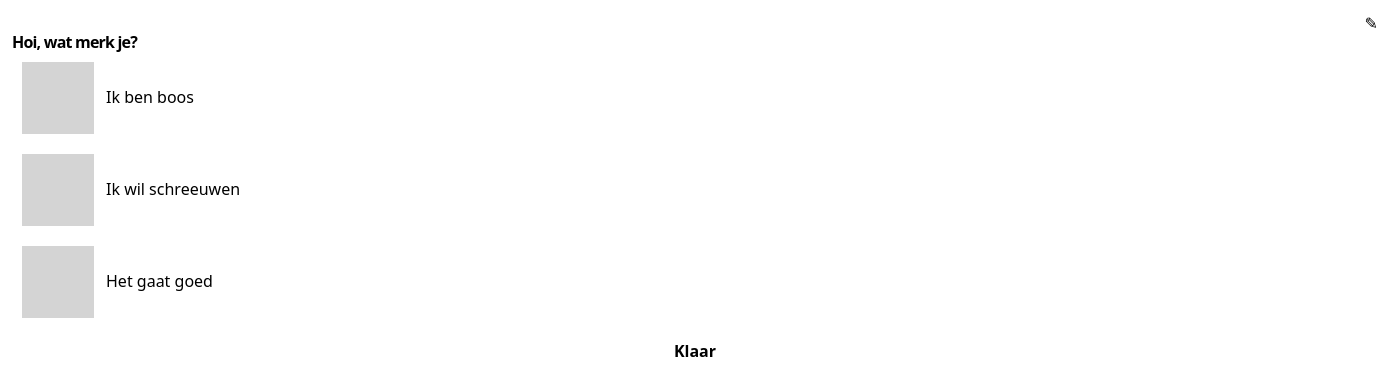
App › shows the signals, "Het gaat goed" and "Klaar"; tapping signals gives the colour
Expected: the button "Het gaat goed" is shown, [12,236,1378,328]
What coordinates should you click on to do the following:
click the button "Ik ben boos"
I would click on:
 (58, 98)
Its box is [12,52,1378,144].
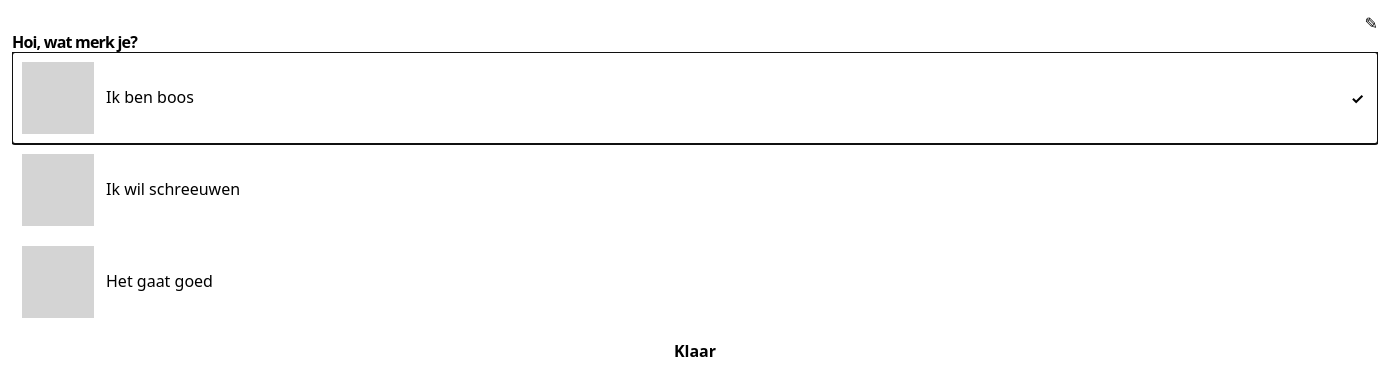
Result: the button "Ik ben boos ✓" is pressed
What coordinates should you click on to do the following:
click the button "Ik ben boos ✓"
I would click on:
 (58, 98)
Its box is [12,52,1378,144].
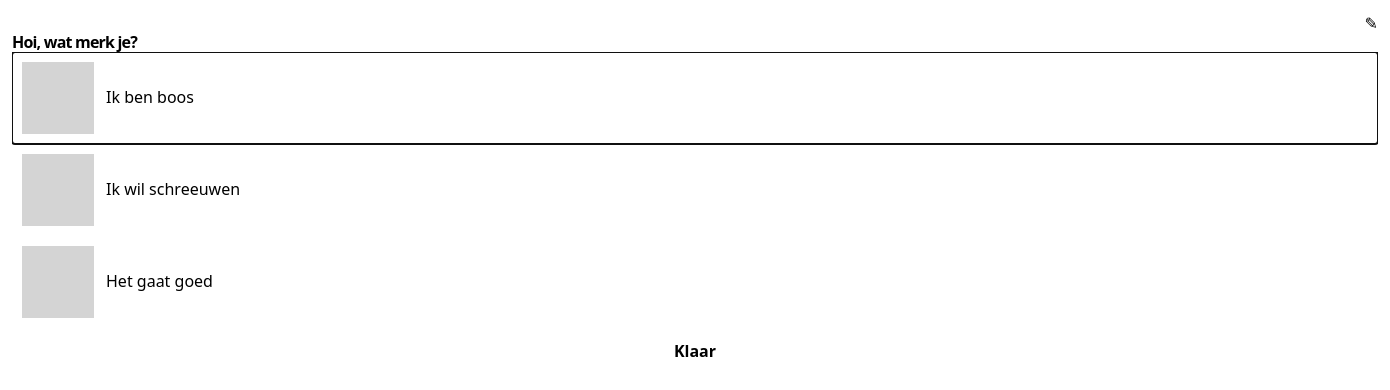
Result: the button "Ik ben boos" is not pressed
What coordinates should you click on to do the following:
click the button "Ik ben boos"
I would click on:
 (58, 98)
Its box is [12,52,1378,144].
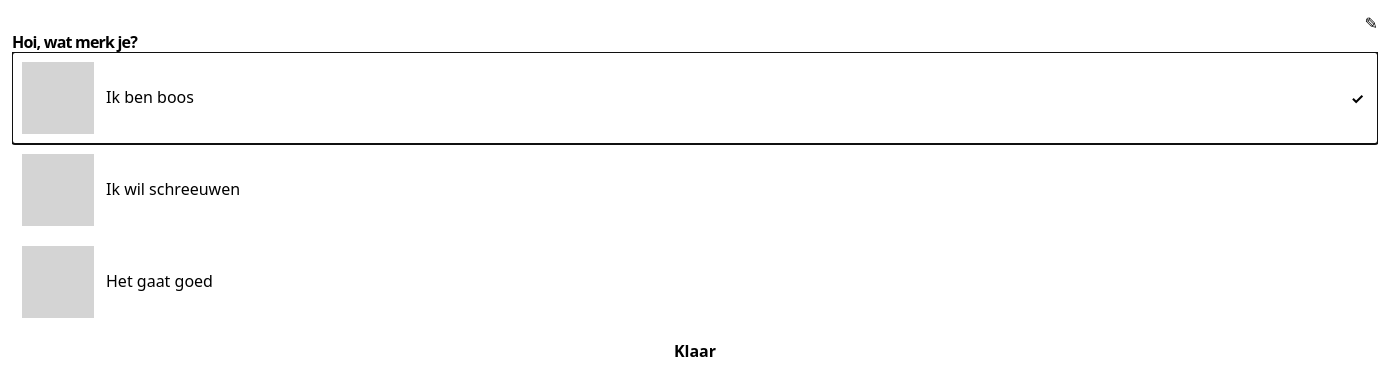
What coordinates should you click on to do the following:
click the button "Klaar"
I would click on:
 (695, 351)
Its box is [12,328,1378,374].
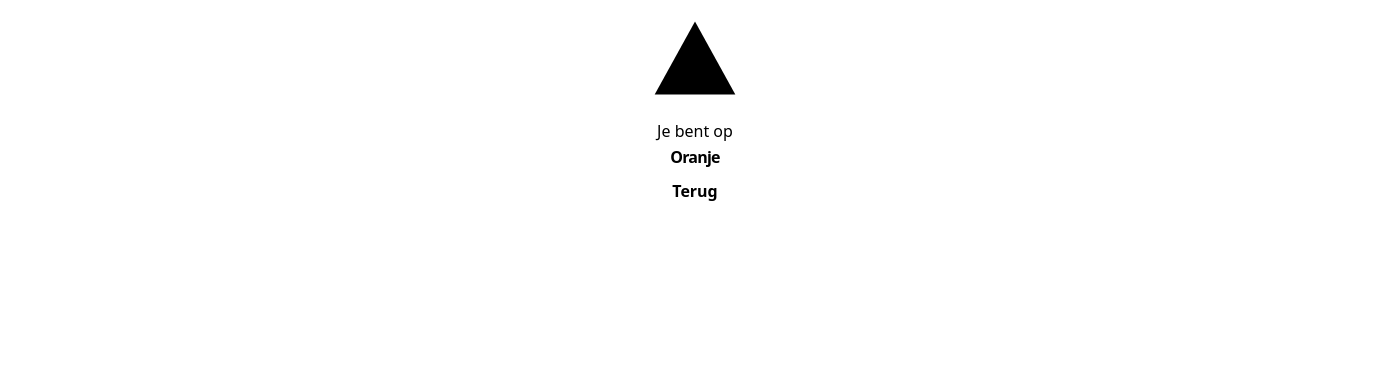
Result: the heading "Je bent op Oranje" is shown at [657,120,733,168]
What coordinates should you click on to do the following:
click the button "Terug"
I would click on:
 (695, 191)
Its box is [12,168,1378,214].
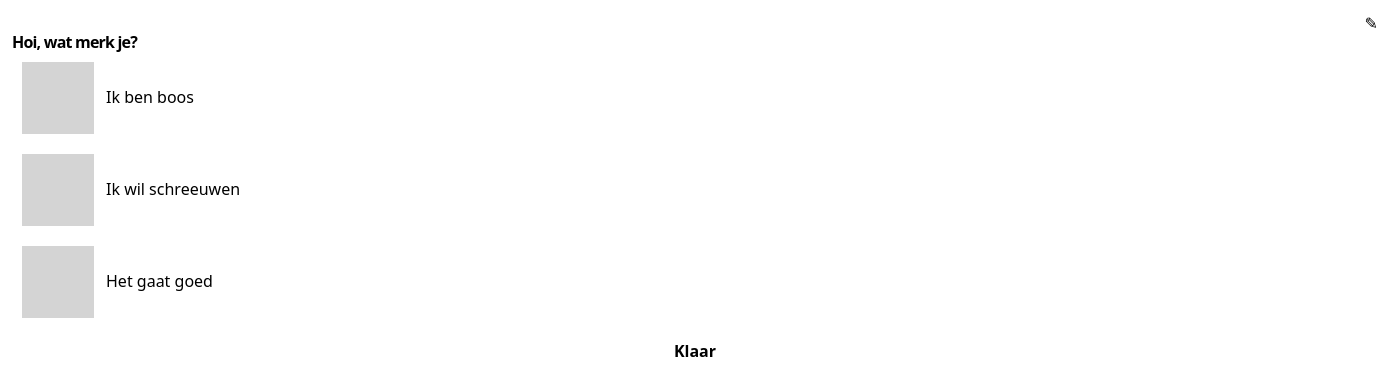
Result: the button "Ik ben boos" is not pressed at [12,52,1378,144]
